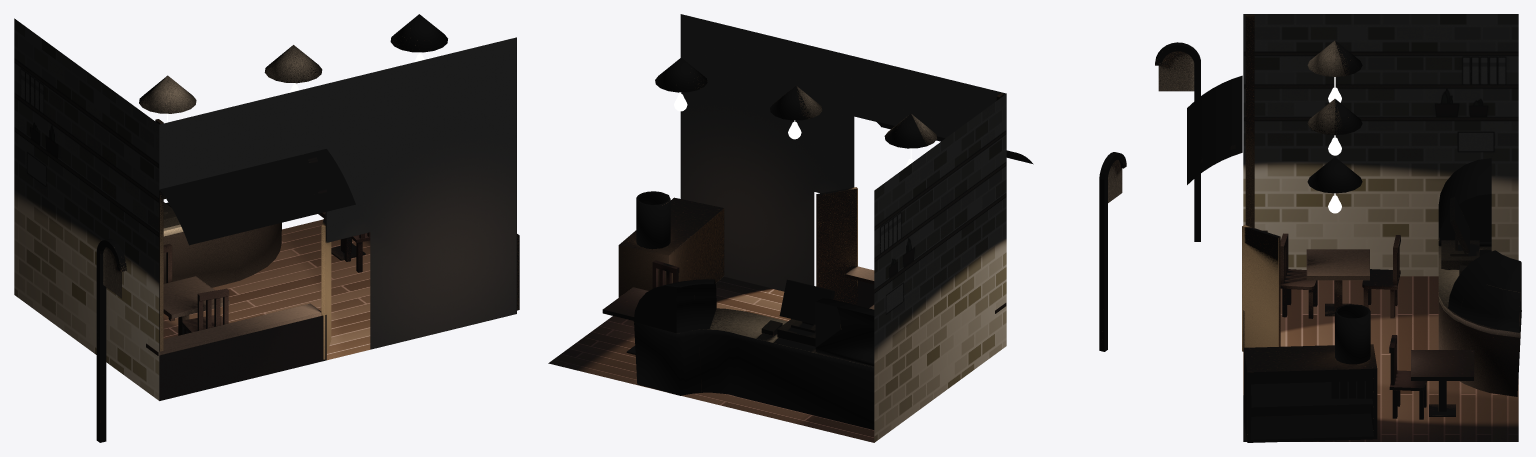
Rendered from cafe2.glb.
The picture shows the model from 3 angles, left to right: view 1: azimuth 30°, elevation 25°; view 2: azimuth 150°, elevation 25°; view 3: azimuth 270°, elevation 25°; orthographic projection. The views are drawn at different scales.
Parts seen in each view (by area): view 1: mainroom; view 2: mainroom; view 3: mainroom.
Boxes of the visible parts, left/top/right/bottom form: mainroom: left=14, top=14, right=519, bottom=442; mainroom: left=548, top=14, right=1126, bottom=442; mainroom: left=1155, top=14, right=1521, bottom=442.
Size of the model in its own units: 3.56 by 2.12 by 2.66.
3 materials, 2 textured.
